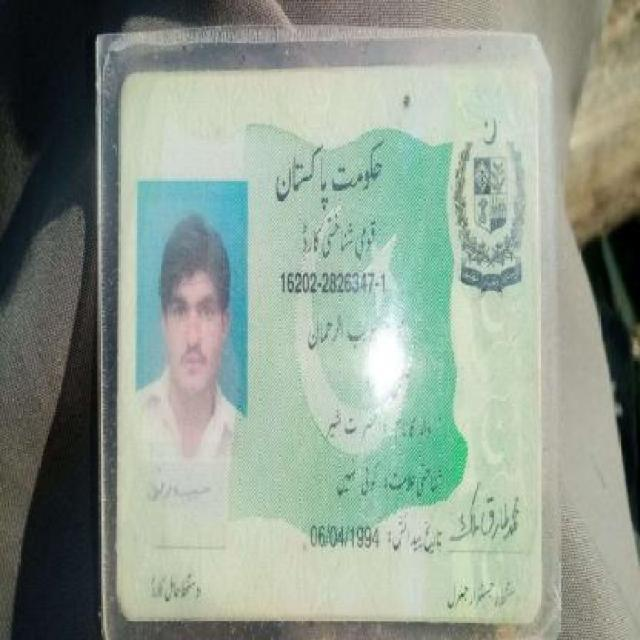Front: (105, 46, 546, 620)
